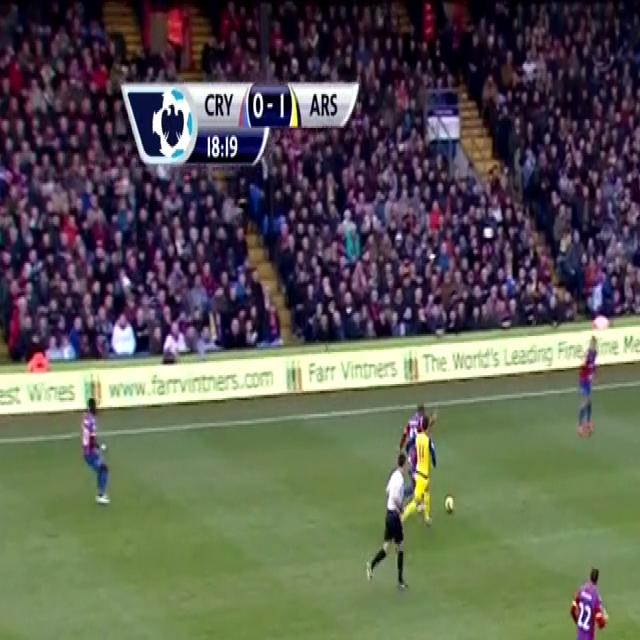ball: (443, 491, 456, 516)
referee: (362, 472, 422, 600)
soccer-player: (545, 565, 627, 640), (71, 403, 125, 515), (564, 330, 612, 446), (401, 415, 436, 534)
